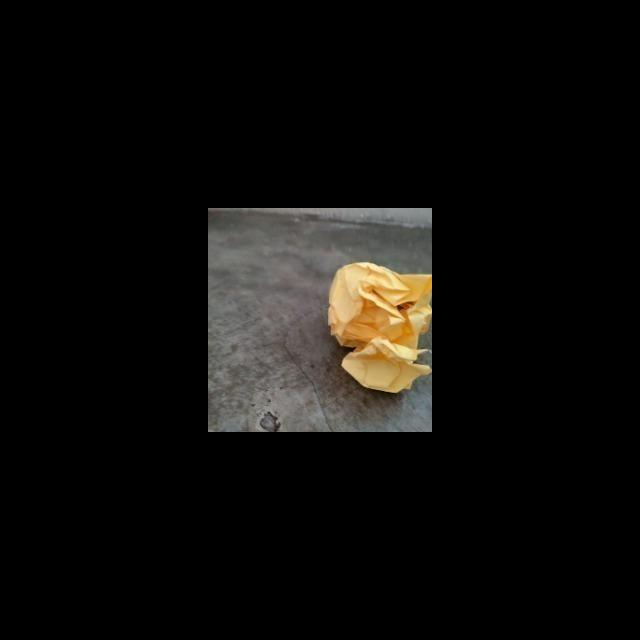paper: (312, 246, 432, 411)
